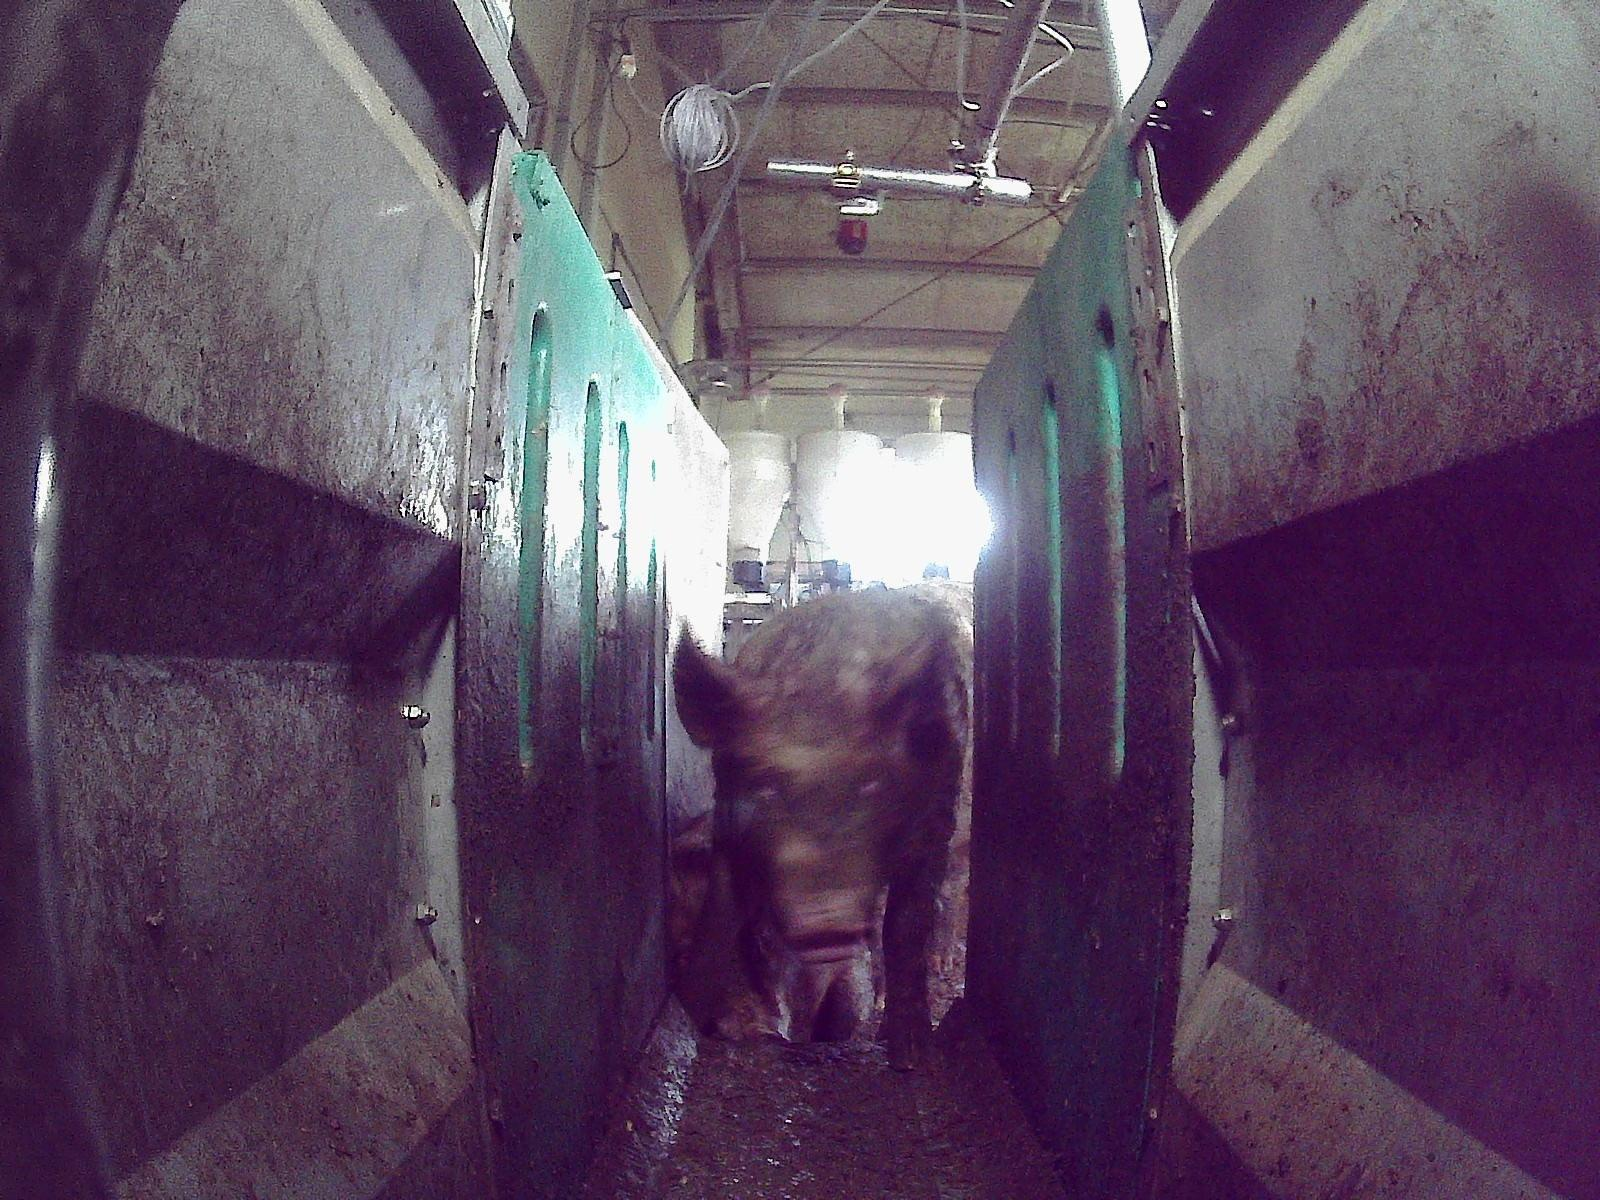Face: (729, 703, 895, 962)
